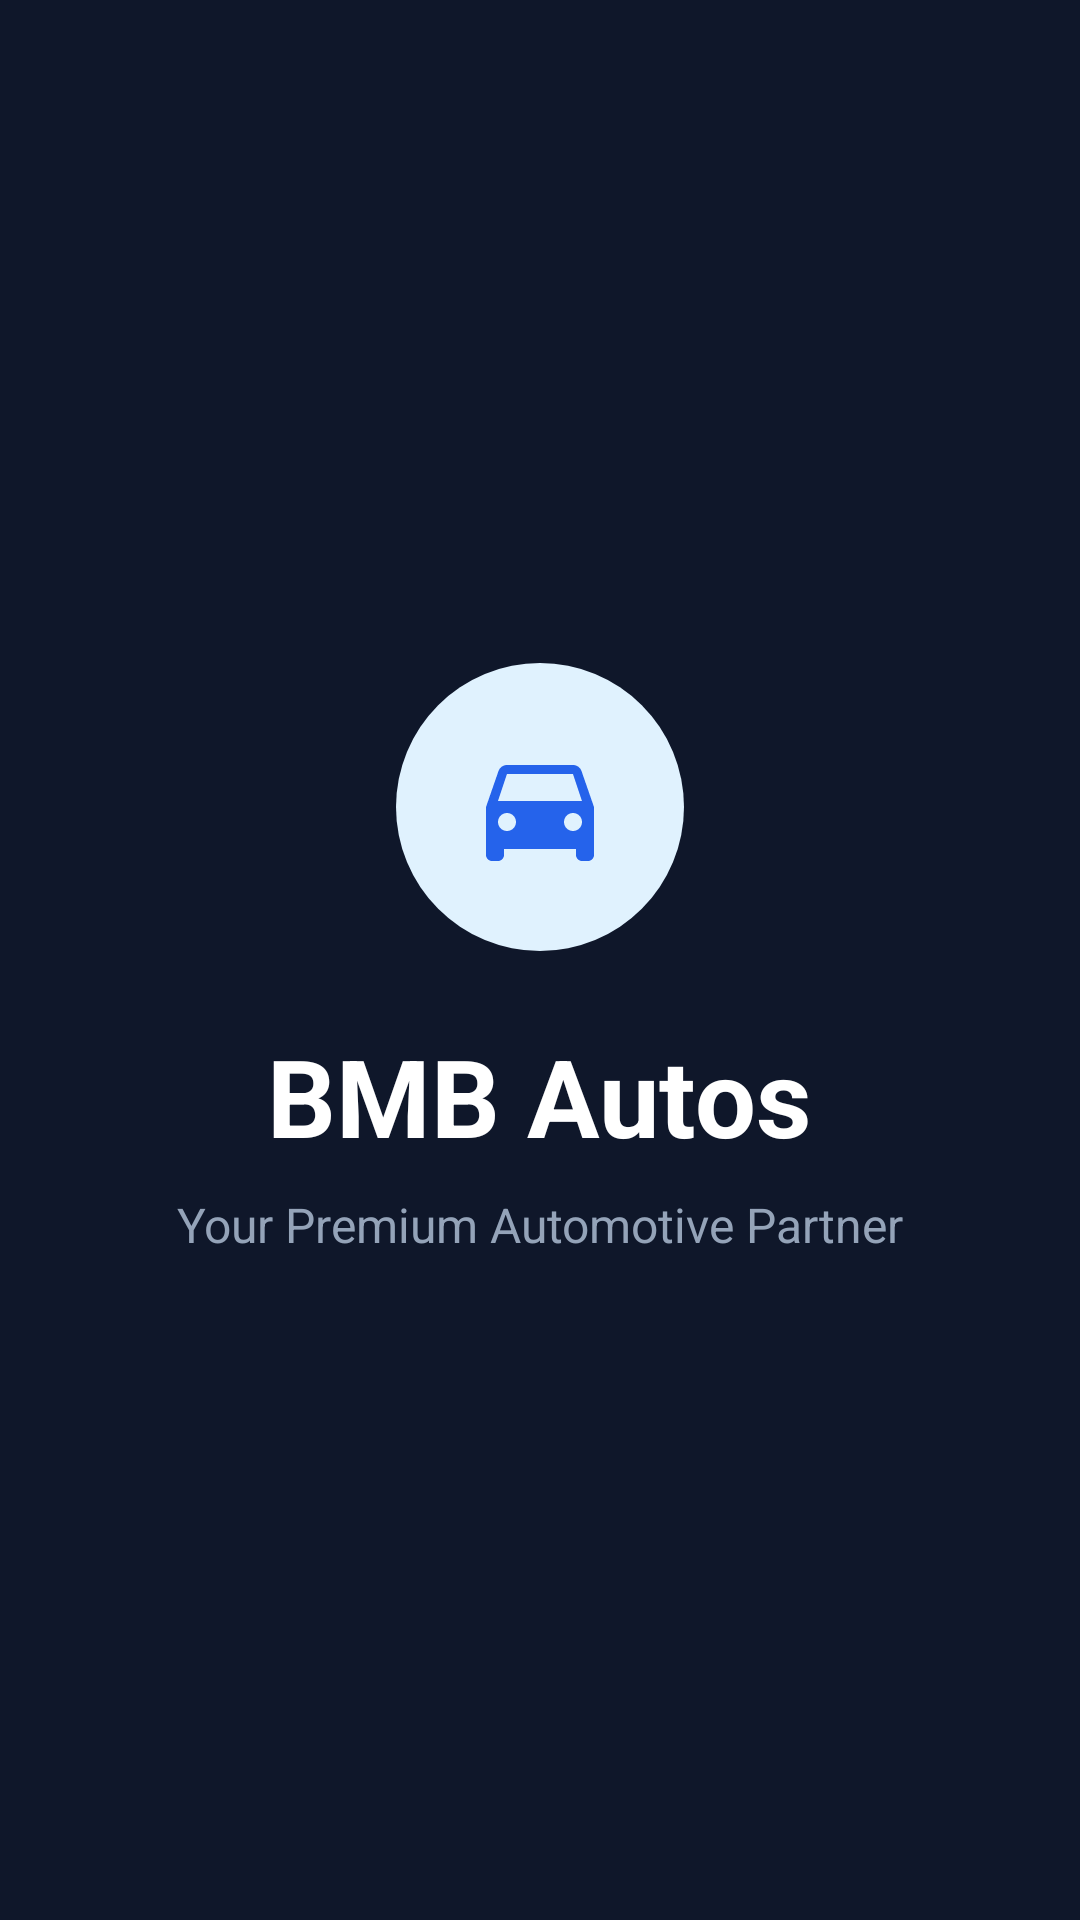

Locate icon controls on the screen. Image size 1080px×1920px, boxes as [left=x1, top=y1, right=x2, bottom=y2].
car: [left=396, top=663, right=684, bottom=951]
